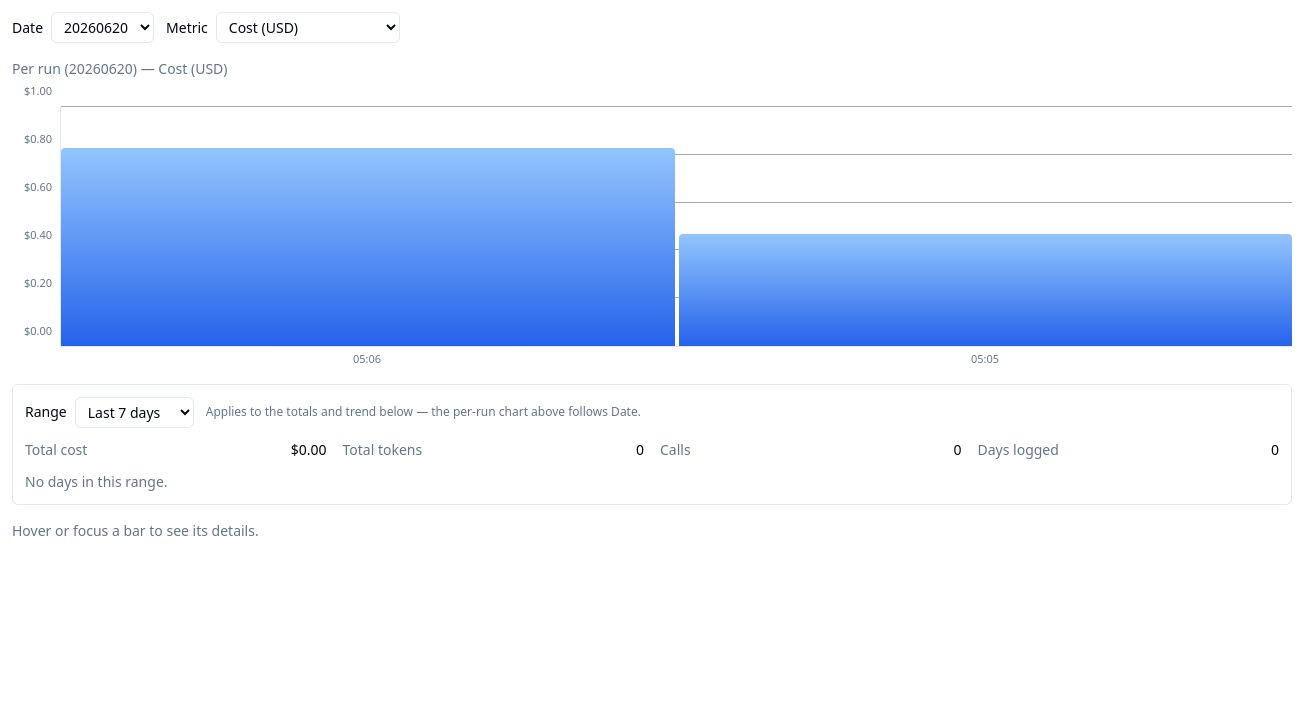
Test: UsageDashboard › defaults to a 7-day range and drops out-of-window trend points
// Switching to All time brings the points back.
Select "All time" in the dropdown with test id "usage-range-select": {"x": 134, "y": 412} [75,396,194,428]
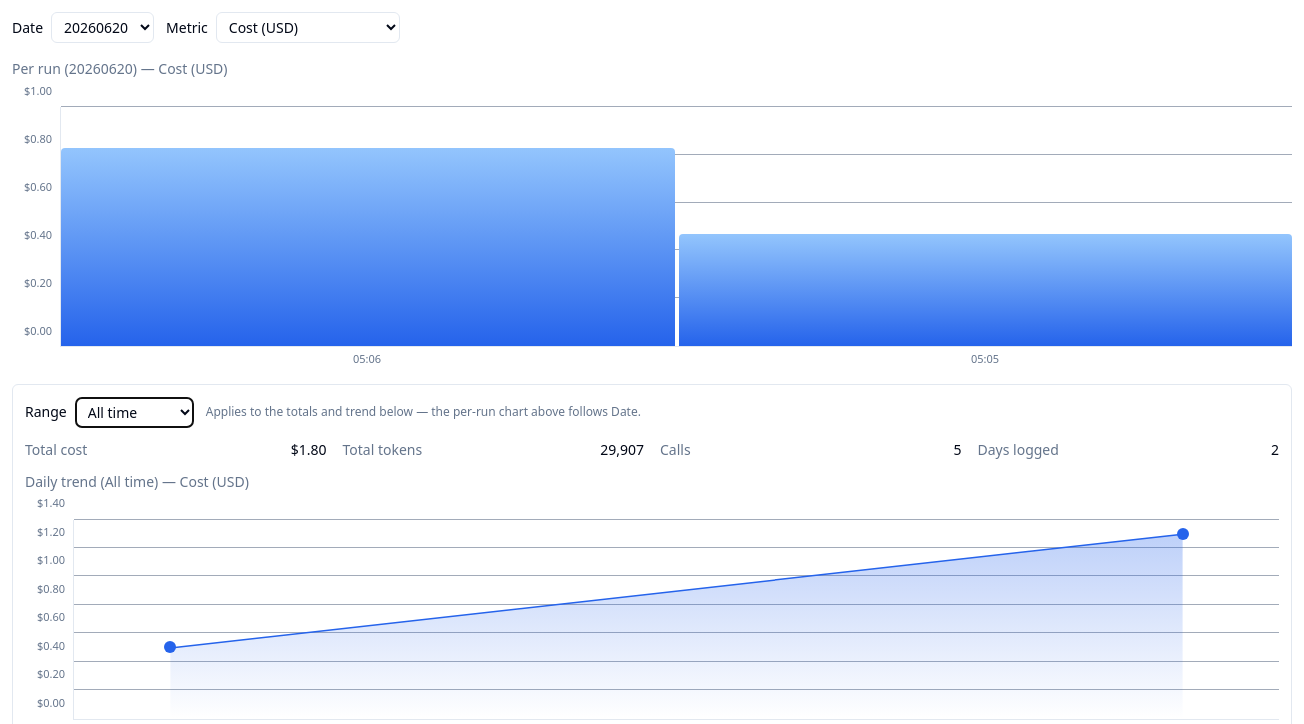
Now the picture with test id "usage-trend-point-0" is shown, box [164,641,176,653]
